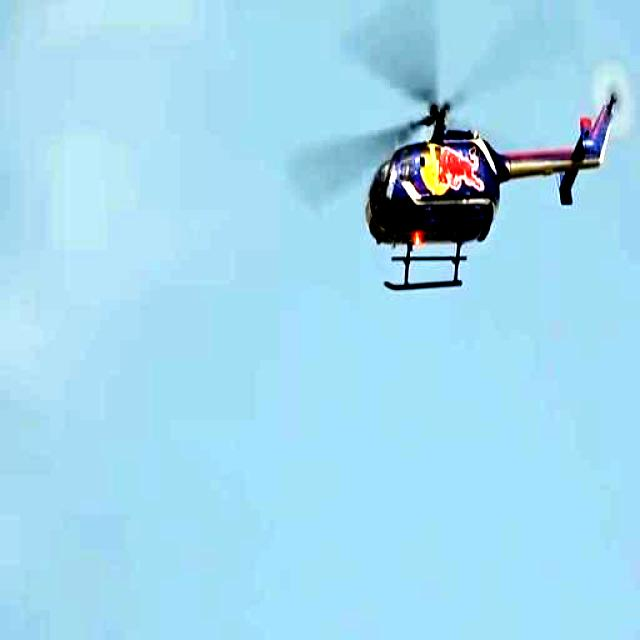drone: (342, 12, 630, 326)
